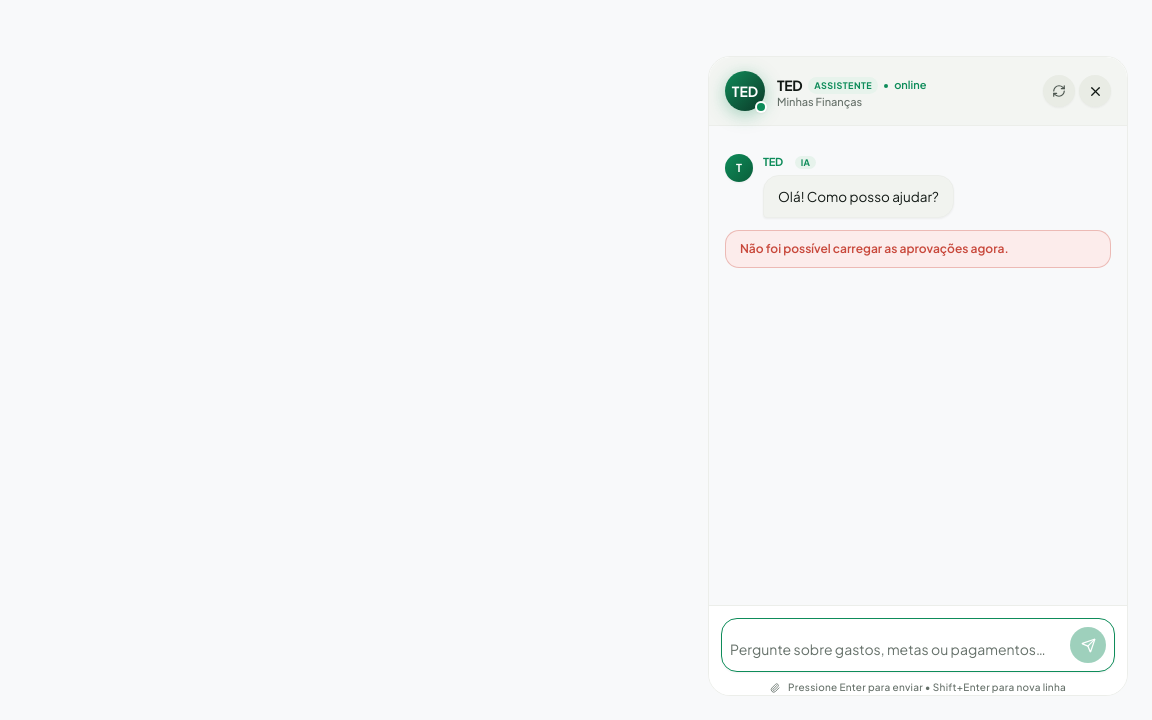
TedChat — §19.1 optimistic universal (text included) › a failed text message stays visible as failed with a clear label and [Tentar novamente] — never silently discarded
This screenshot has width=1152, height=720.
expect the text "Olá! Como posso ajudar?" is shown: met, box [778,186,939,207]
Type "Olá" into the text box with placeholder "Pergunte sobre gastos, metas ou pagamentos…" at (897, 649), box [730,635,1064,663]
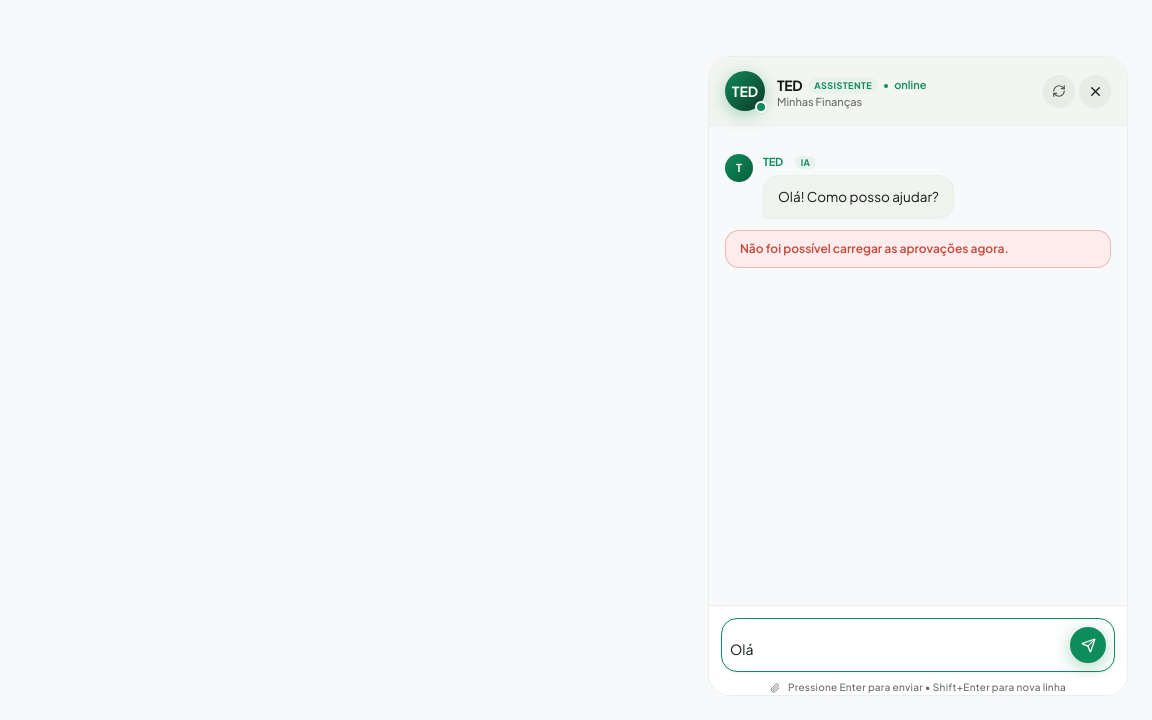
Click the button named "enviar mensagem" at (1088, 645), box [1070,627,1106,663]
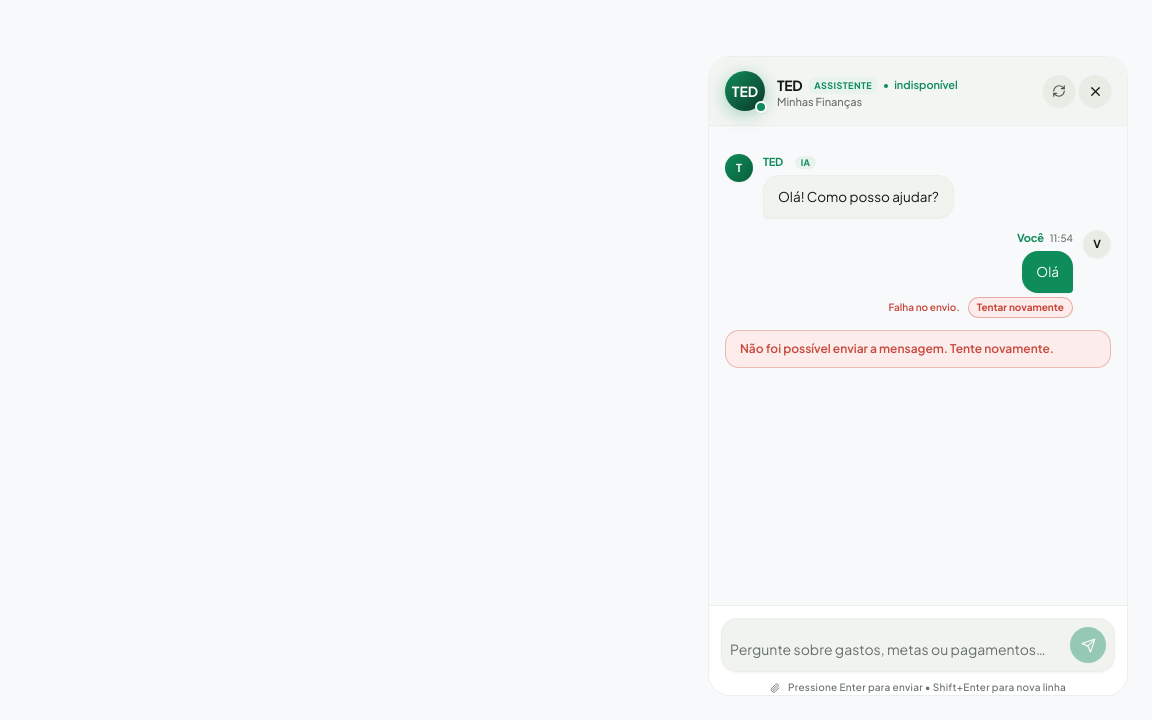
expect the button "Tentar novamente" is shown: met, box [968,297,1073,318]
expect the text "Olá" is shown: met, box [1036,261,1059,283]
expect the text "Falha no envio. Tentar novamente" is shown: met, box [888,297,1073,318]
